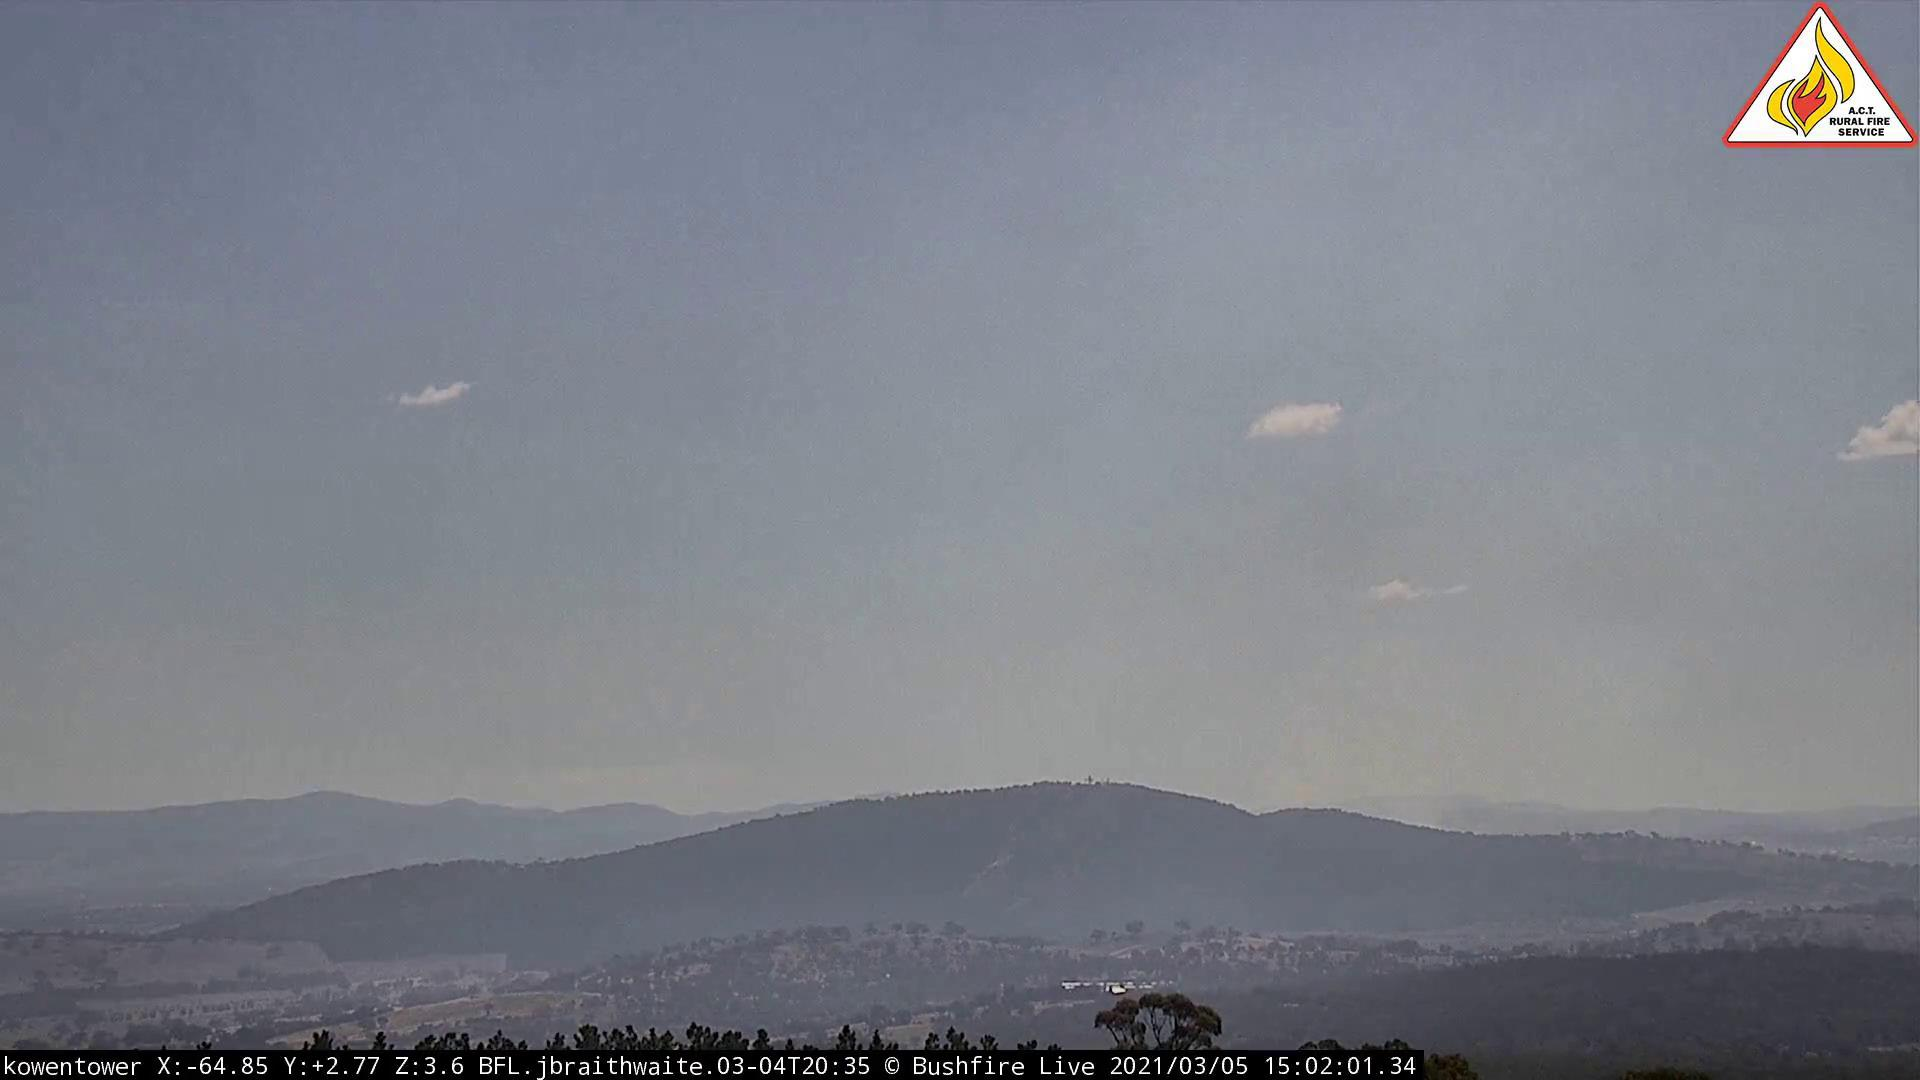Smoke: (1059, 537, 1866, 864)
